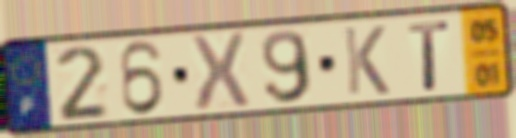2: (53, 43, 113, 124)
6: (117, 38, 167, 118)
9: (258, 27, 315, 106)
K: (340, 24, 392, 98)
T: (405, 18, 453, 92)
X: (187, 30, 253, 116)
